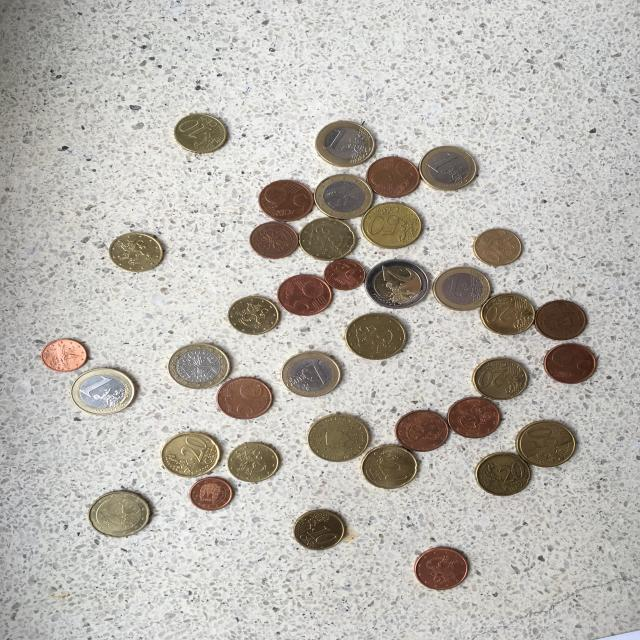10c: (108, 231, 165, 274), (173, 112, 231, 154), (225, 442, 282, 482), (227, 296, 283, 336), (294, 510, 347, 550), (473, 228, 524, 266)
1c: (42, 337, 89, 372), (189, 476, 233, 511), (323, 259, 366, 290)
1e: (70, 368, 140, 416), (167, 342, 233, 390), (282, 351, 344, 398), (316, 120, 378, 166), (312, 174, 375, 219), (417, 146, 480, 190), (432, 267, 494, 311)
20c: (88, 490, 154, 538), (344, 314, 410, 360), (159, 432, 223, 476), (474, 356, 532, 402), (298, 218, 359, 261), (475, 451, 533, 496), (362, 445, 419, 490), (480, 292, 536, 336)
2c: (414, 546, 469, 590), (394, 409, 450, 452), (446, 397, 504, 438), (248, 220, 300, 260)
2e: (364, 258, 432, 310)
50c: (516, 420, 578, 468), (308, 413, 370, 461), (362, 202, 422, 249)
5c: (216, 375, 273, 420), (276, 274, 334, 318), (257, 180, 316, 223), (544, 342, 598, 386), (535, 299, 589, 342), (365, 156, 420, 198)
